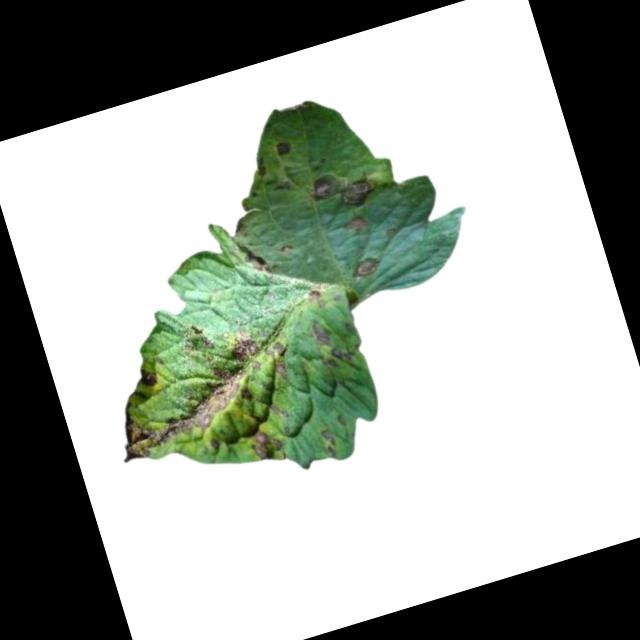Early_blight: (96, 328, 283, 467), (305, 159, 380, 221), (263, 337, 295, 382), (246, 425, 280, 464), (307, 316, 335, 348), (350, 256, 381, 281), (341, 211, 367, 235), (270, 137, 292, 160)
